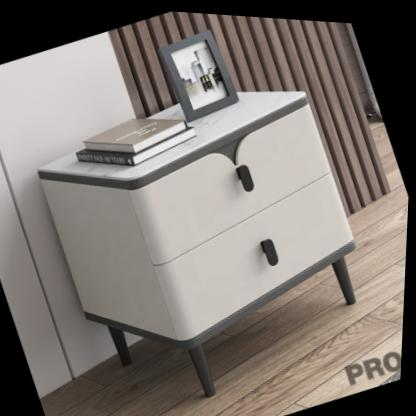Nightstand: (28, 58, 382, 394)
